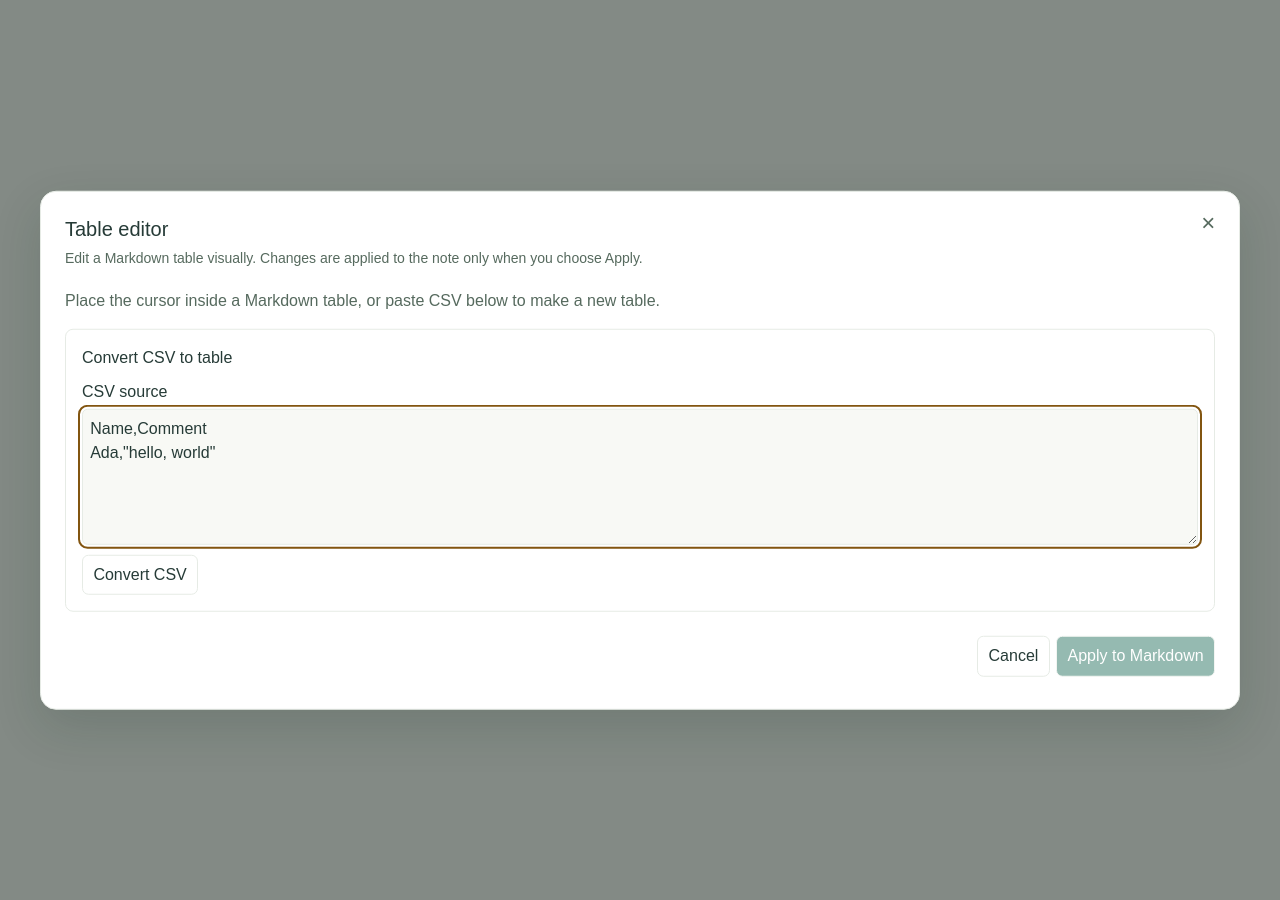
it: visual table editor › converts selected CSV to a valid Markdown table and rejects stale apply
The image size is (1280, 900).
Click the button "Convert CSV": click(140, 575) [82,554,198,595]
(page scrolled)
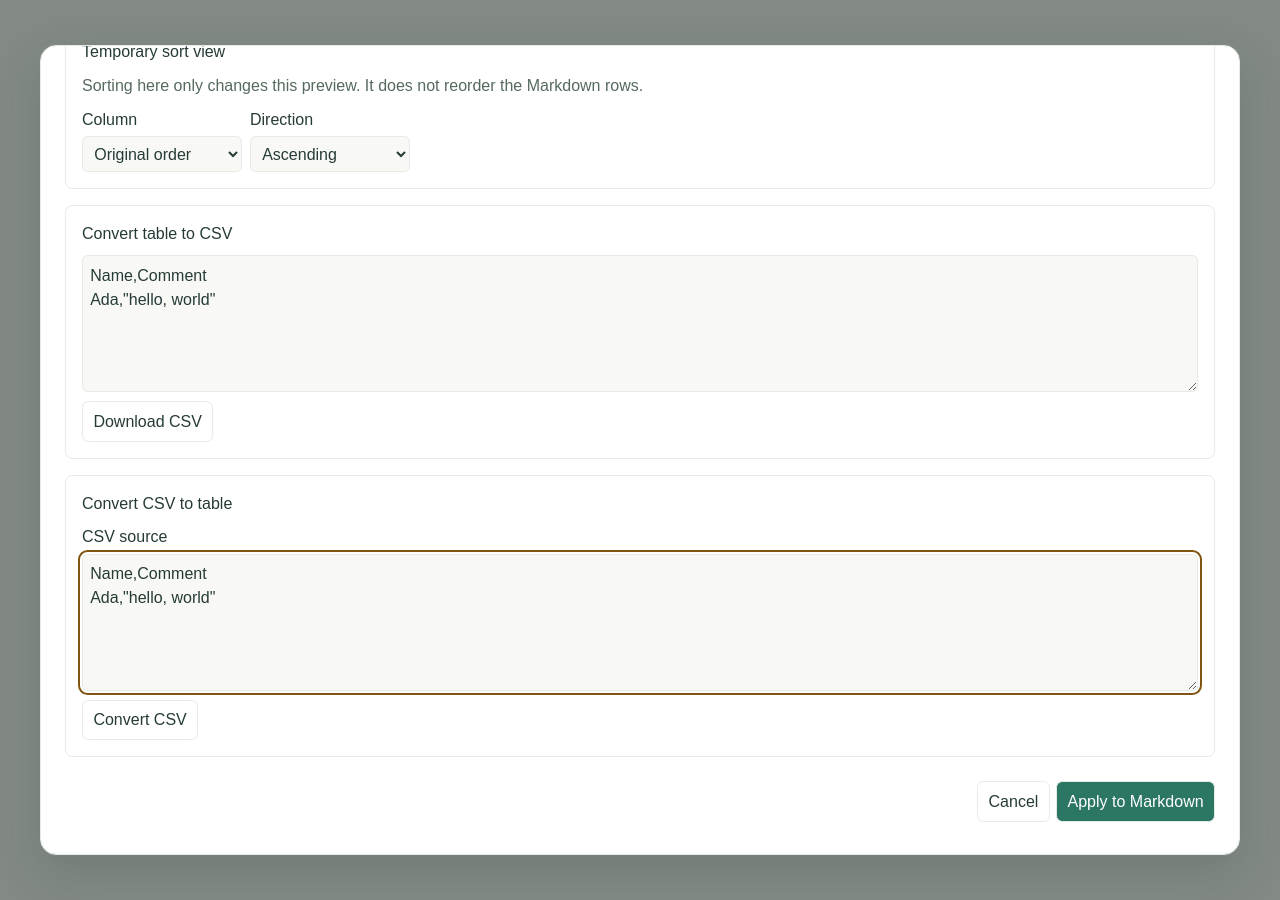
Click the button "Apply to Markdown": click(1136, 802) [1056,782,1215,822]
(page scrolled)
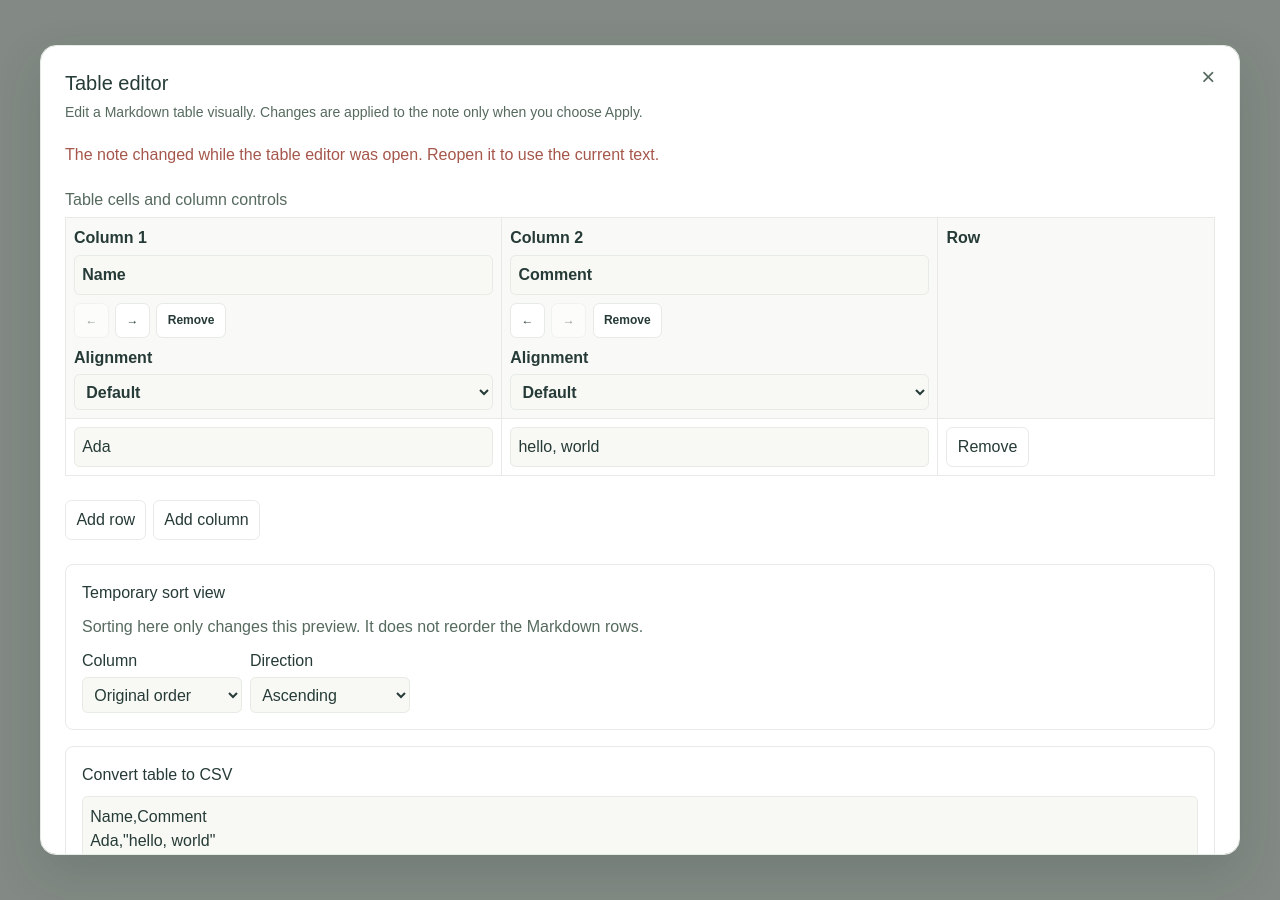
Check: the message shows "note changed", box [65,146,659,163]
